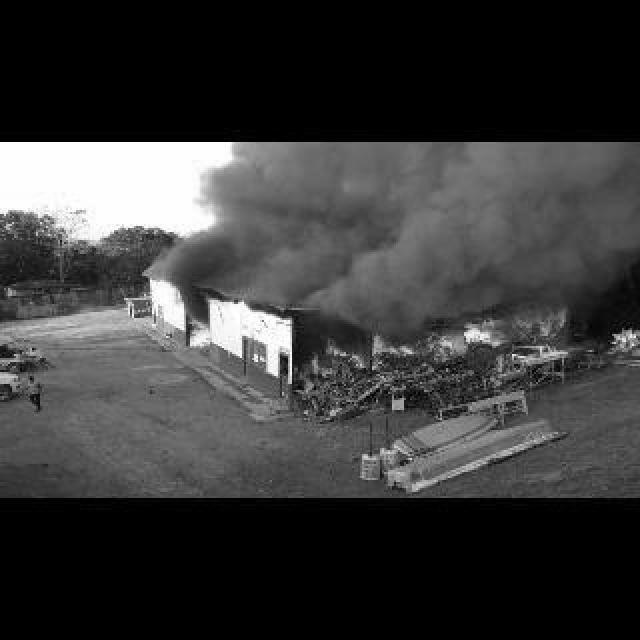fire: (468, 300, 570, 358), (370, 326, 460, 376), (296, 330, 366, 382), (186, 316, 212, 348)
smoke: (144, 140, 620, 320)
